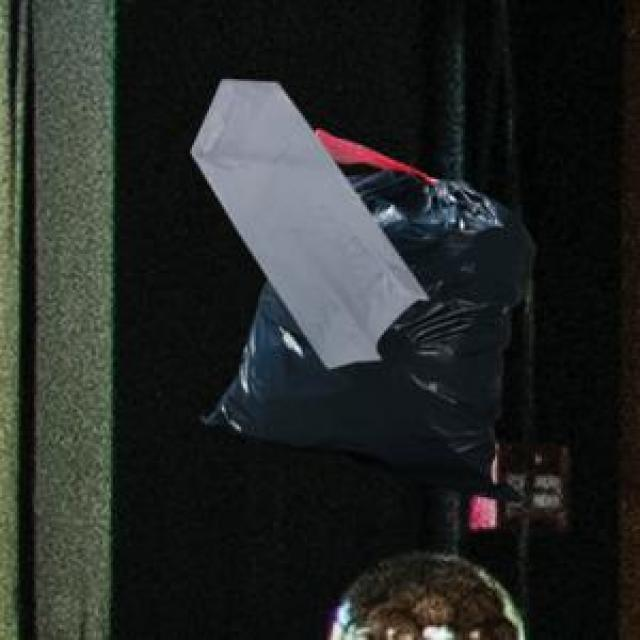miscellaneous trash: (196, 126, 531, 497)
